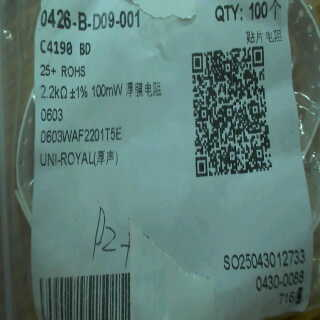2.2kR: (39, 80, 69, 102)
